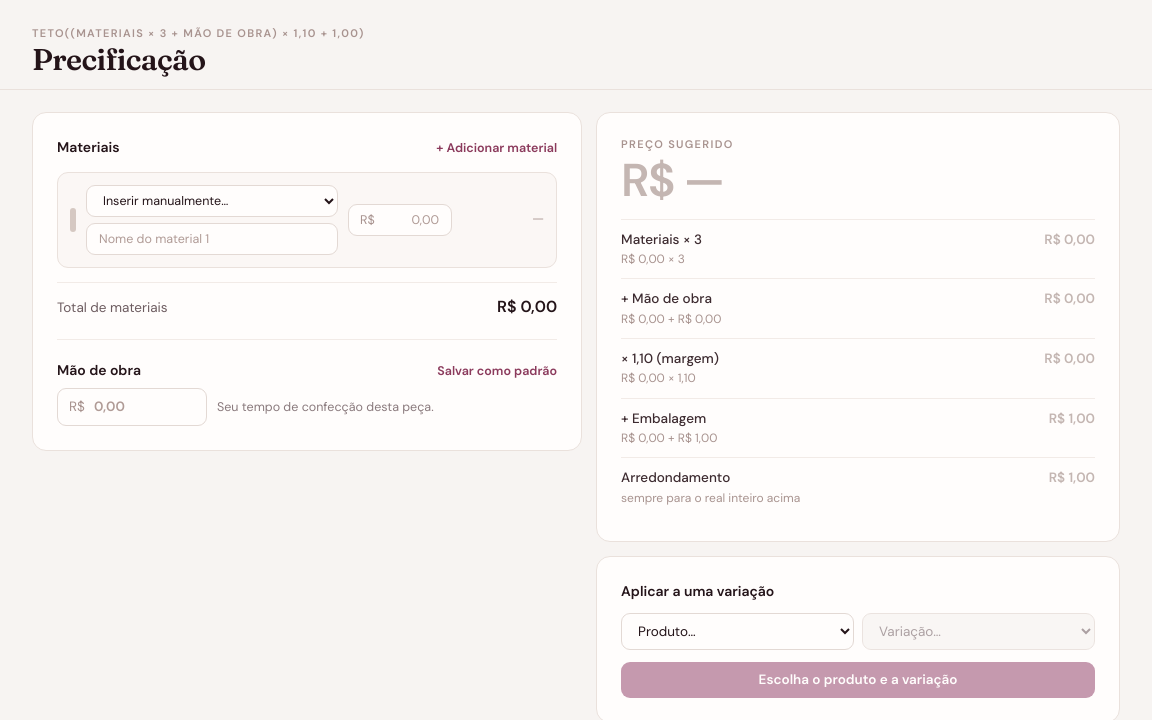
Test: Precificação: falhas aparecem na tela › should_explain_when_applying_the_price_fails
The image size is (1152, 720).
Type "10" into the field with placeholder "0,00" in the row of "Seu tempo de confecção desta peça." at (132, 407), box x1=57 y1=388 x2=207 y2=426
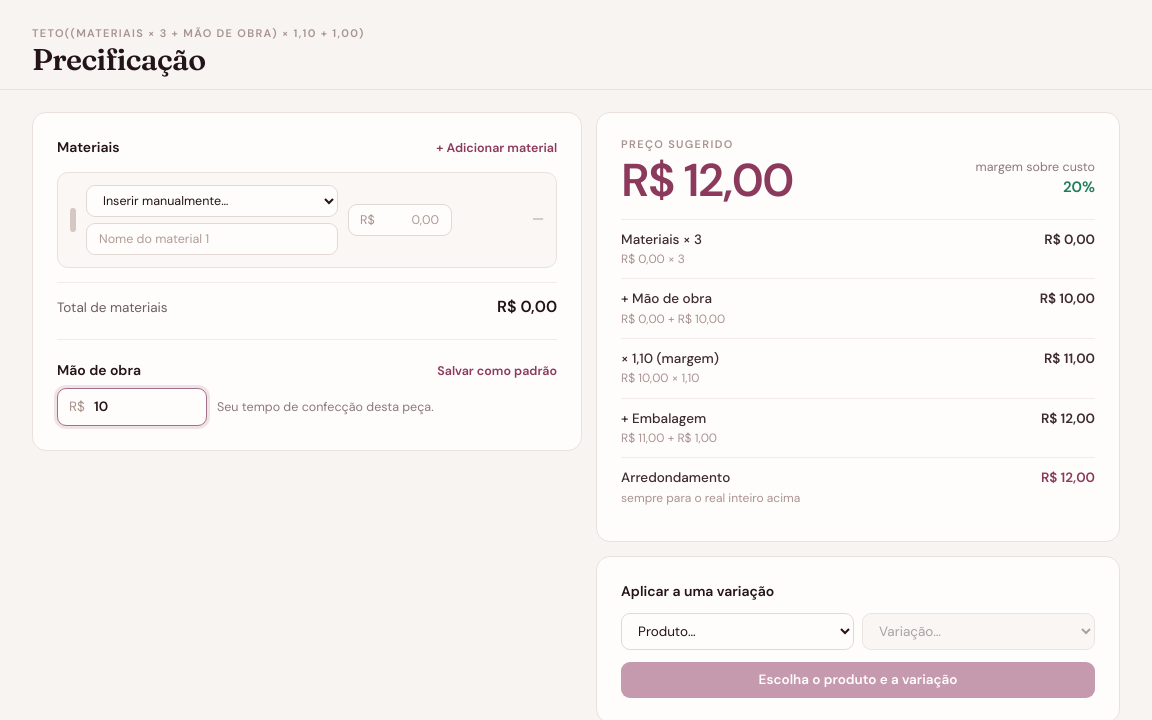
Select "Colar Aurora (Colar)" in the 2nd dropdown named "Colar Aurora" at (738, 632), box x1=621 y1=613 x2=854 y2=650
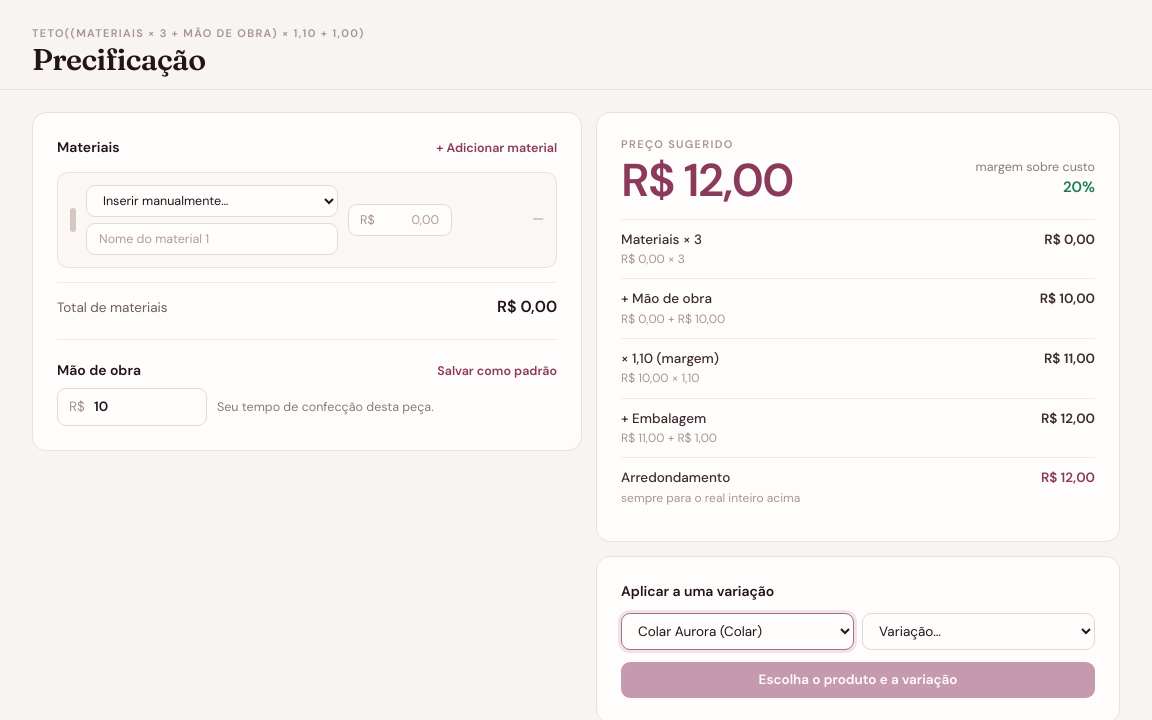
Select "Rosa" in the 3rd dropdown named "Rosa" at (978, 632), box x1=862 y1=613 x2=1095 y2=650
(page scrolled)
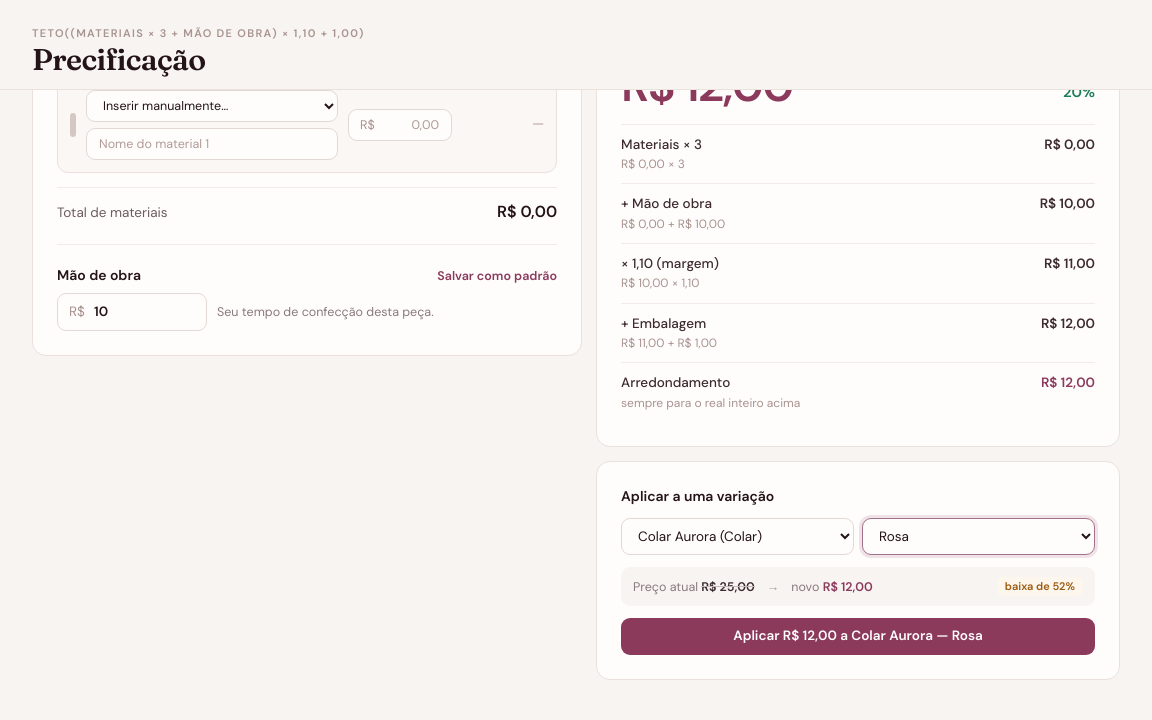
Click the button "Aplicar R$ 12,00 a Colar Aurora — Rosa" at (858, 637), box x1=621 y1=618 x2=1095 y2=655
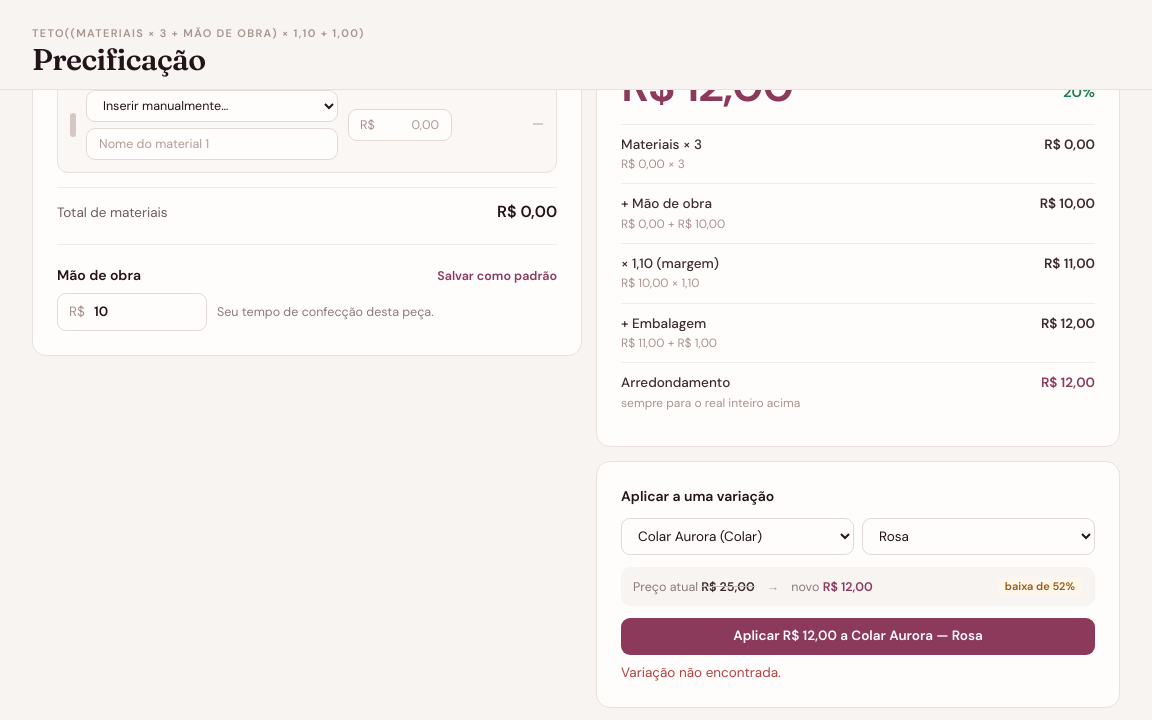
expect the text "Variação não encontrada." is shown: met, box x1=621 y1=664 x2=781 y2=681
